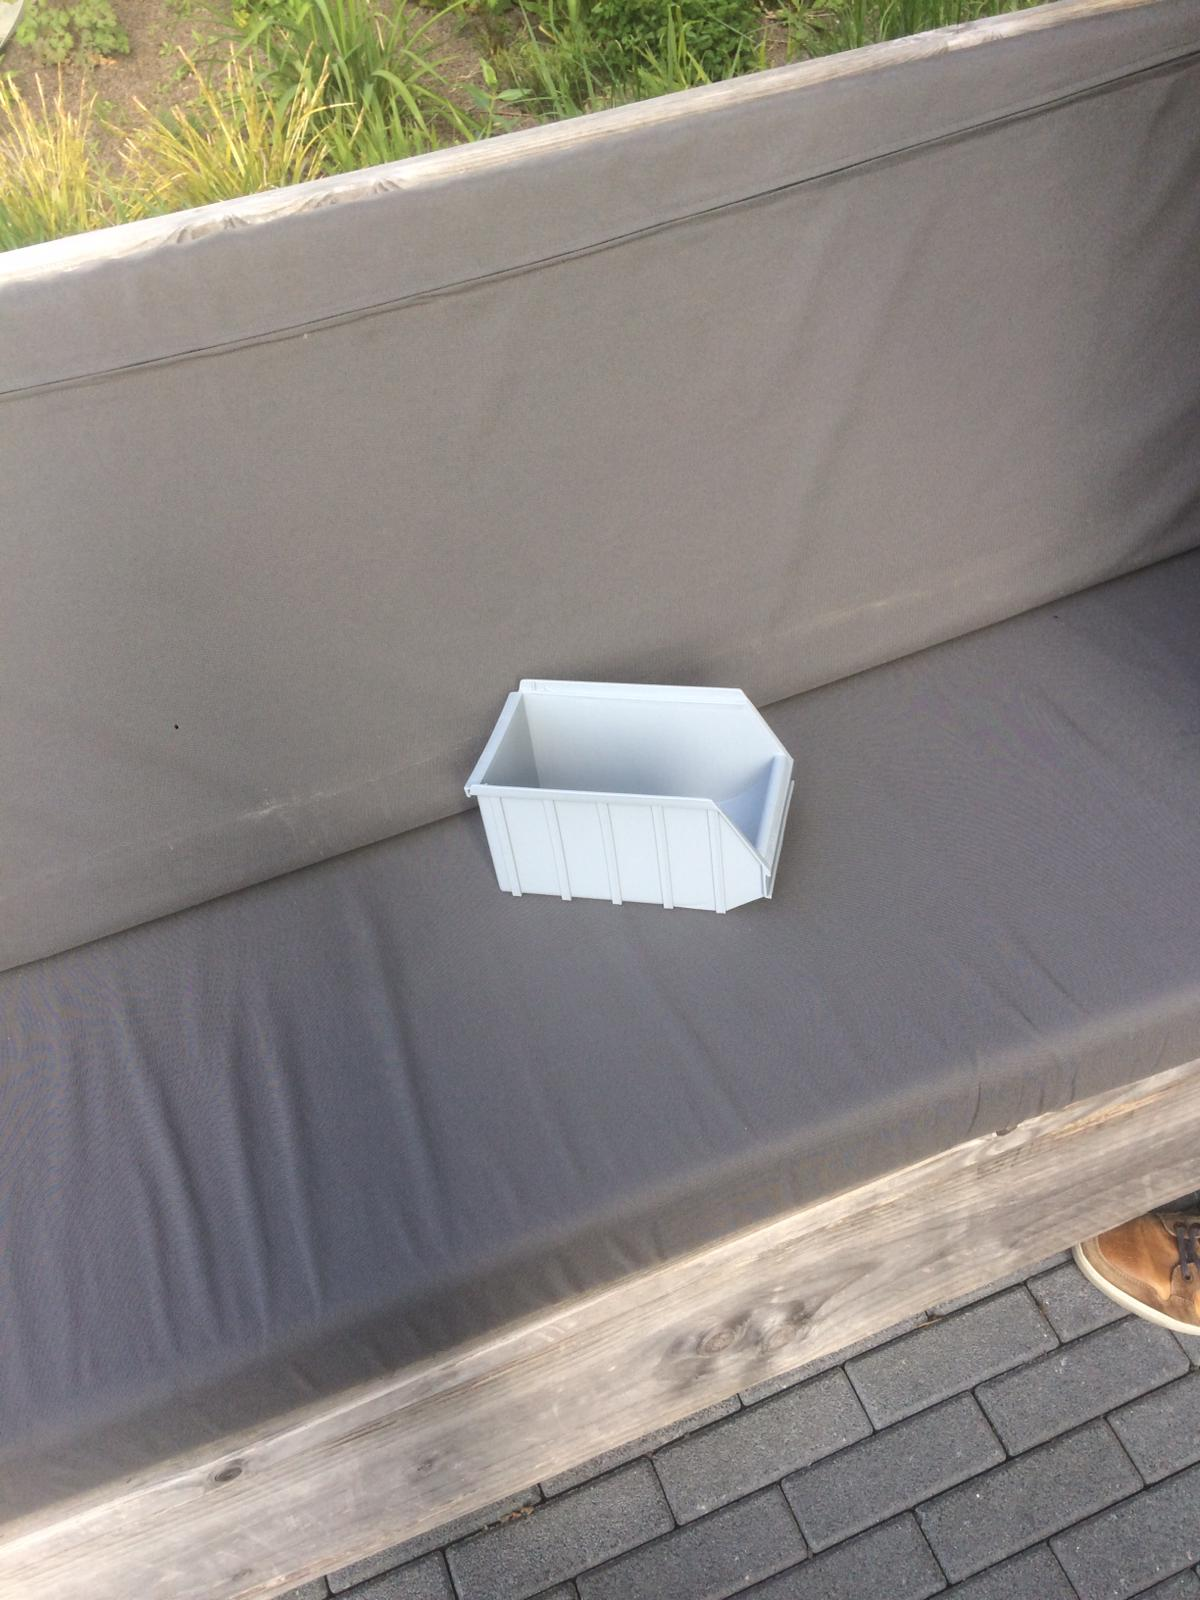tray_left: (456, 782, 771, 929)
